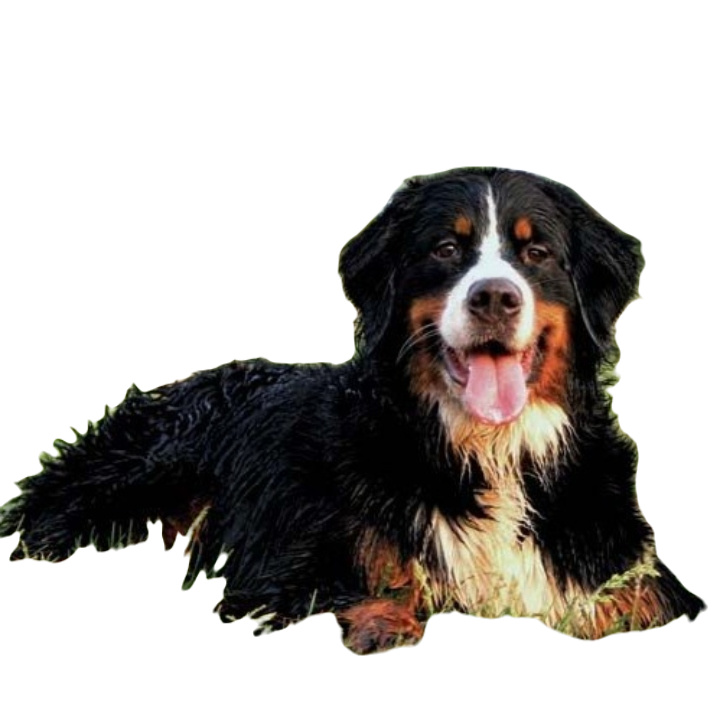Dog: (0, 166, 719, 654)
